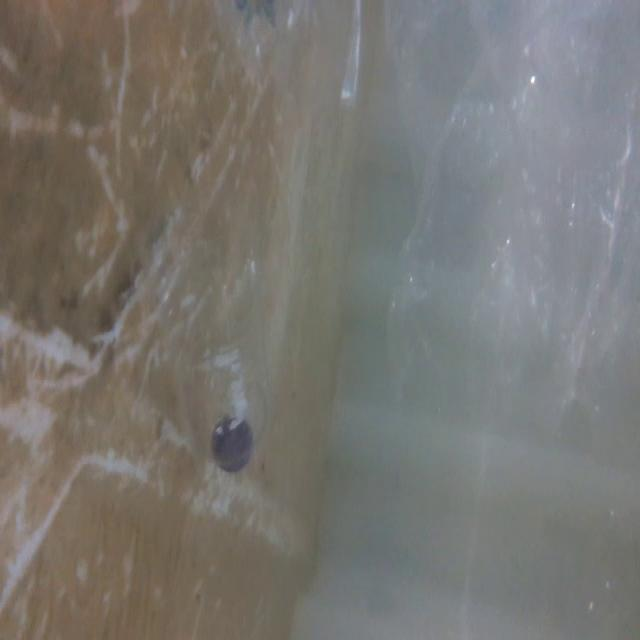plastic bags: (387, 0, 640, 452), (205, 0, 378, 132)
plastic bottle: (124, 193, 295, 504)
